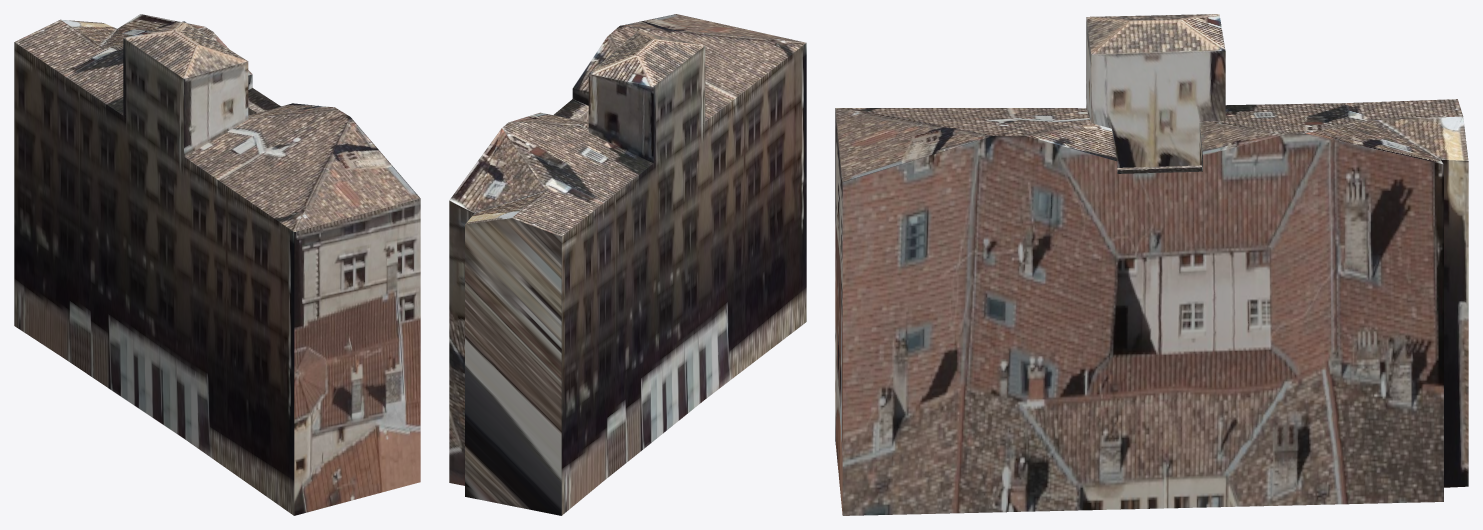
3 renders of one model, left to right at view 1: azimuth 30°, elevation 25°; view 2: azimuth 150°, elevation 25°; view 3: azimuth 270°, elevation 25°, orthographic. The views are drawn at different scales.
Parts seen in each view (by area): view 1: Z_UP; view 2: Z_UP; view 3: Z_UP.
Boxes of the visible parts, x1,y1,x2,y2 form: Z_UP: (14,14,420,515); Z_UP: (449,14,806,515); Z_UP: (835,14,1468,515).
Bounding box in the file's own units: 10.36 × 25.45 × 33.37.
Materials: 2 (1 with a texture image).
